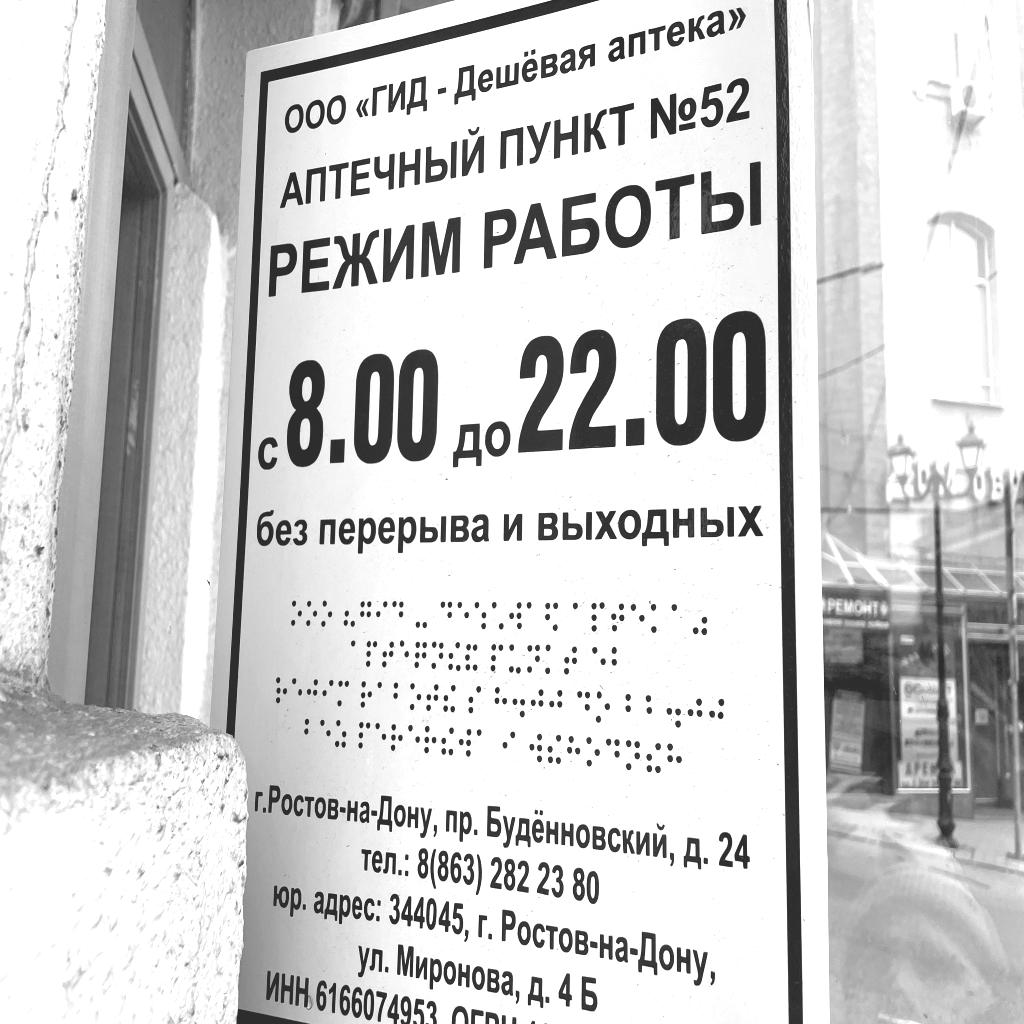_n: (626, 739, 641, 772), (431, 640, 444, 671), (527, 644, 540, 673)
_y: (509, 643, 522, 675)
a: (671, 603, 687, 637), (573, 602, 588, 634), (526, 602, 541, 633), (476, 728, 491, 759), (377, 681, 390, 709), (351, 640, 363, 668)
b: (393, 681, 406, 710), (304, 718, 317, 747)
ch: (414, 641, 428, 670)
d: (606, 737, 620, 771), (577, 690, 591, 722), (440, 601, 453, 630), (392, 600, 404, 628)
defis: (416, 601, 428, 629)
e: (630, 603, 646, 636), (457, 601, 470, 632), (408, 724, 421, 754), (375, 723, 387, 754), (292, 678, 303, 706), (320, 719, 331, 747), (400, 640, 410, 669)
g: (360, 601, 371, 628)
gh: (307, 678, 319, 706)
i: (502, 731, 516, 762), (376, 601, 388, 629), (322, 680, 334, 707)
iKratkoe: (465, 642, 478, 672)
ii: (645, 741, 662, 775), (547, 733, 562, 765), (448, 640, 461, 672), (441, 726, 454, 756), (443, 684, 456, 713)
k: (651, 603, 667, 634), (545, 644, 558, 675)
kavichki1: (343, 600, 356, 628)
kavichki2: (692, 602, 708, 636)
m: (337, 680, 350, 708)
o: (585, 736, 601, 769), (596, 691, 611, 724), (409, 683, 422, 712), (321, 599, 333, 628), (291, 600, 303, 627), (306, 600, 317, 627)
p: (591, 601, 606, 634), (490, 643, 504, 672), (358, 721, 371, 751), (365, 640, 378, 668)
r: (423, 725, 437, 756), (359, 681, 373, 709), (390, 723, 403, 753), (275, 677, 288, 704)
s: (468, 685, 482, 714)
sh: (474, 601, 487, 630)
t: (610, 602, 625, 632), (564, 646, 577, 676), (382, 640, 395, 669), (426, 683, 439, 712)
tochka: (666, 693, 682, 729), (512, 688, 526, 719)
v: (529, 732, 543, 764), (458, 727, 472, 758), (509, 601, 522, 631)
x: (667, 742, 683, 778), (566, 736, 581, 768)
ya: (545, 601, 559, 633)
yo: (492, 601, 505, 631)
z: (335, 719, 347, 748)
